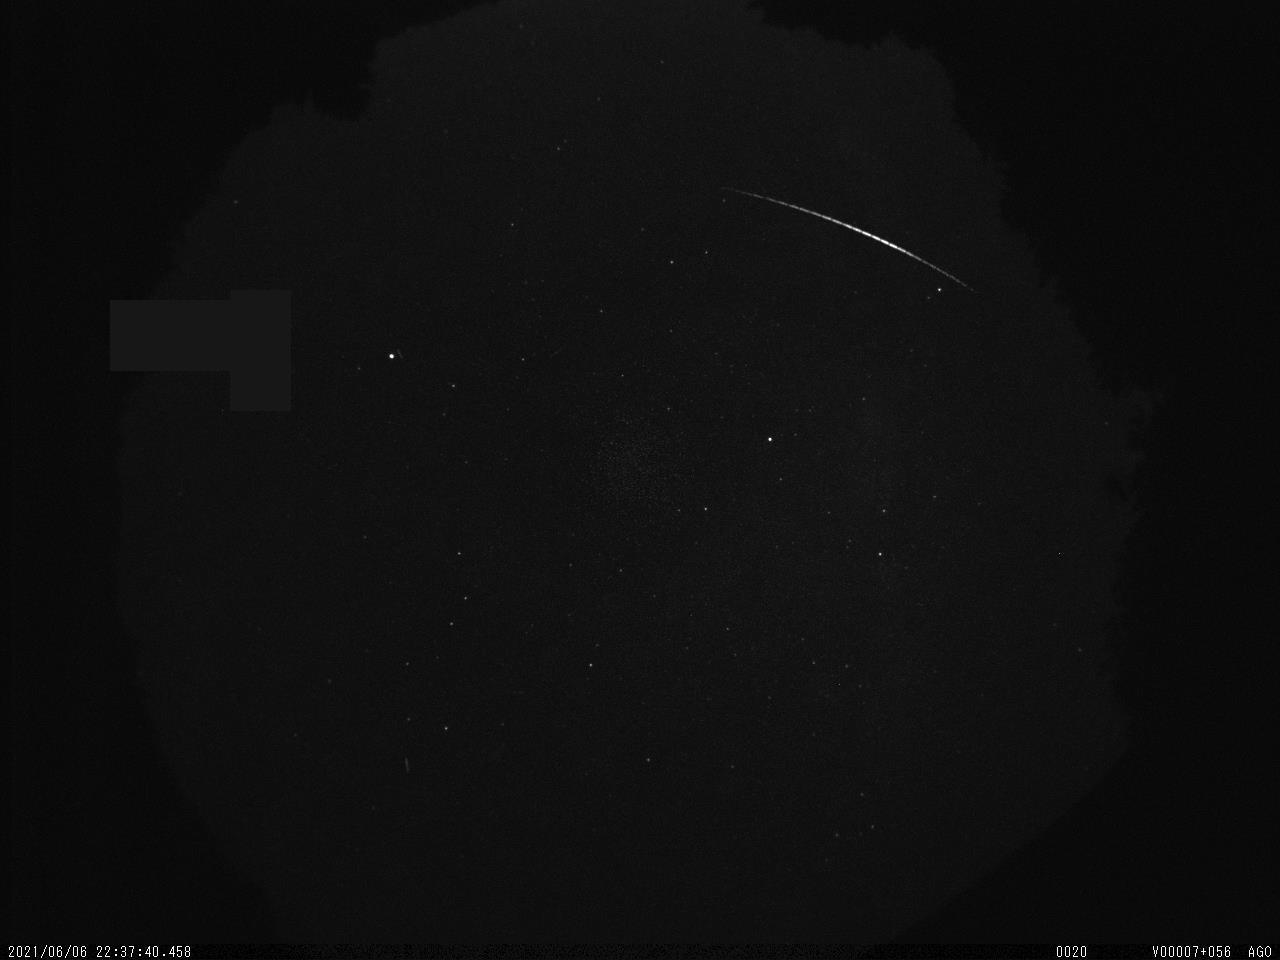meteor: (727, 177, 978, 282)
